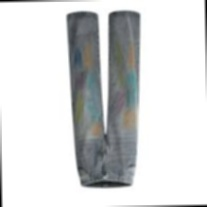earth: (123, 112, 137, 127), (128, 44, 136, 66), (84, 47, 92, 65), (92, 125, 102, 135)
